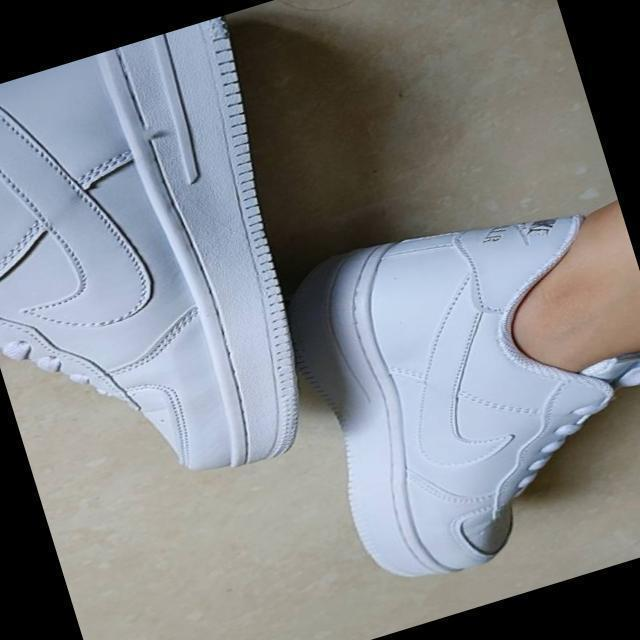nike fake air force: (0, 15, 353, 531), (265, 178, 640, 616)
